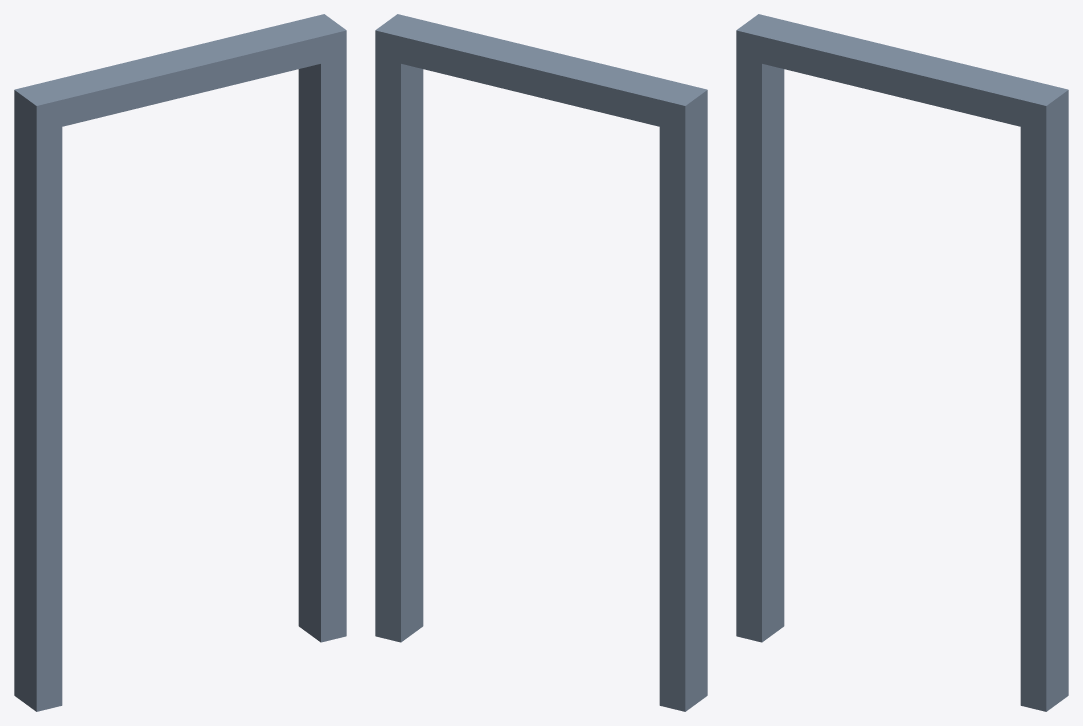
File: door_frame.glb
The picture shows the model from 3 angles, left to right: view 1: azimuth 30°, elevation 25°; view 2: azimuth 150°, elevation 25°; view 3: azimuth 330°, elevation 25°; orthographic projection.
Bounding box in the file's own units: 1.2 × 2.24 × 0.15.
